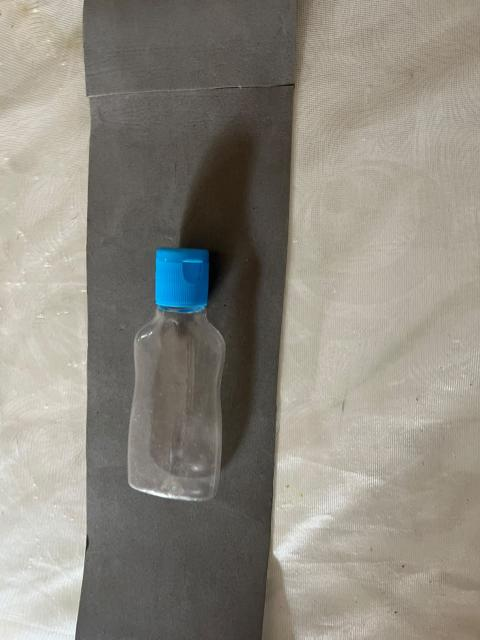PET: (105, 212, 258, 522)
